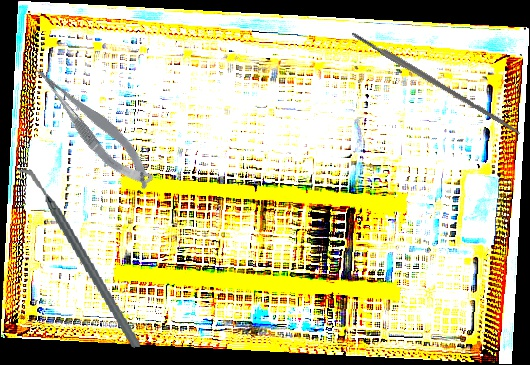Chopper: (16, 153, 141, 361)
Micro Scissor: (28, 50, 160, 201)
Scalpel Handle: (350, 29, 523, 137)
